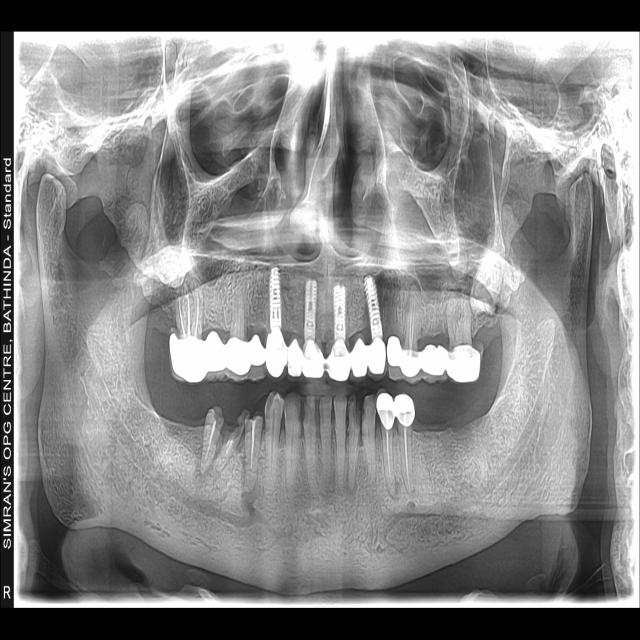Caries: (355, 395, 361, 428)
Crown: (168, 327, 207, 385), (446, 345, 482, 384), (266, 328, 287, 383), (226, 338, 250, 385), (326, 340, 350, 386), (421, 346, 449, 383), (302, 339, 324, 386), (205, 332, 225, 382), (367, 337, 387, 382), (350, 333, 368, 382), (400, 350, 423, 385), (250, 334, 266, 384), (387, 336, 403, 382), (288, 338, 304, 382)
Implant: (364, 277, 382, 341), (304, 279, 318, 341), (269, 267, 282, 329), (332, 285, 346, 341)
Mandibular Canal: (67, 332, 257, 528), (410, 333, 563, 515)
Missing teeth: (414, 382, 488, 432), (160, 386, 206, 427)
Periapical lesion: (242, 460, 261, 503), (195, 447, 216, 484), (345, 477, 358, 499), (387, 476, 398, 500)
Root Canal Treatment: (404, 427, 411, 491), (179, 297, 187, 338), (386, 429, 392, 483), (194, 293, 199, 336), (409, 300, 413, 349), (411, 301, 415, 349), (187, 295, 191, 338)
Root Piece: (215, 408, 250, 471), (200, 406, 224, 473), (244, 415, 262, 495)
